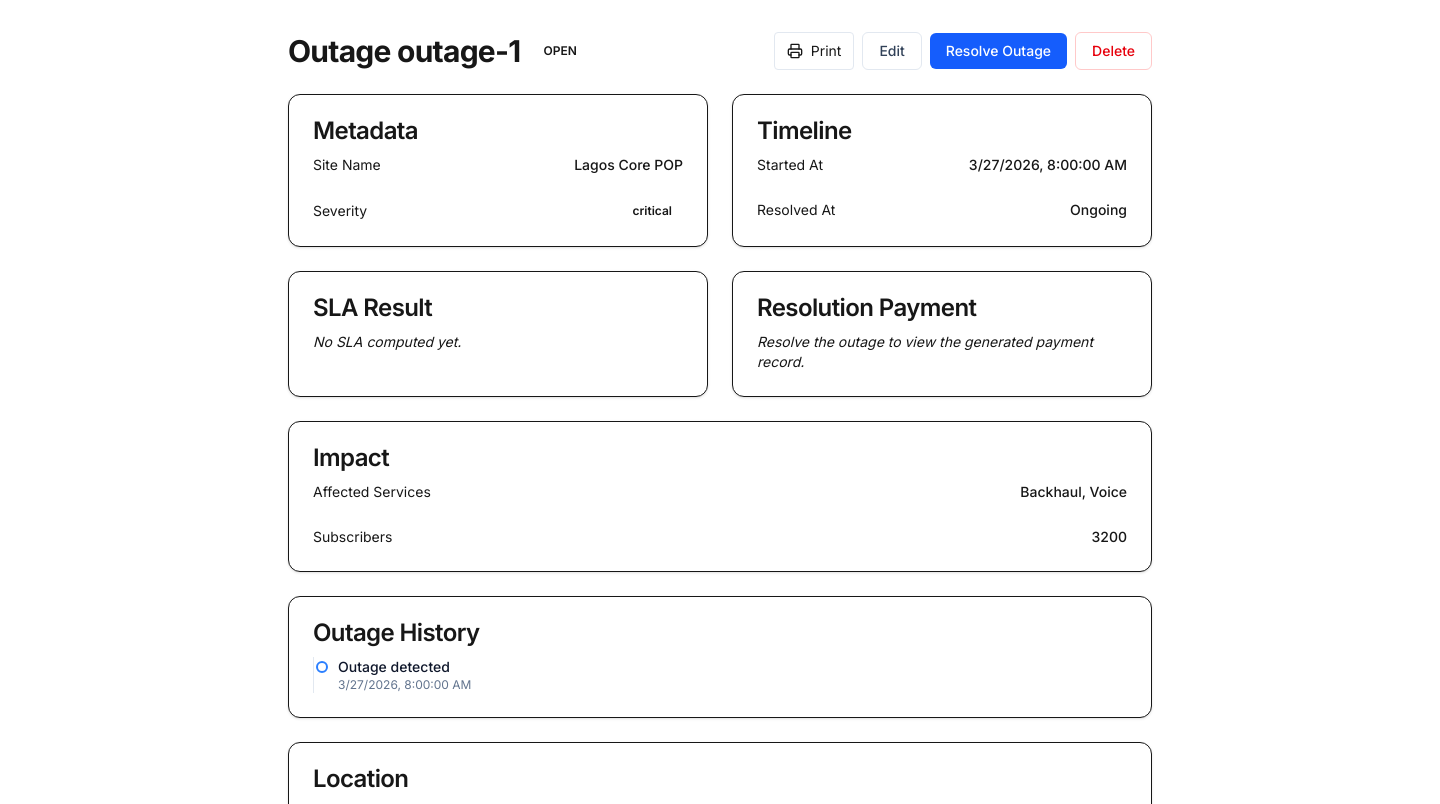
it: outages frontend flow › covers outage detail loading and resolution
Expected: the heading "Outage outage-1" is shown, [288,33,520,69]
Click the button "Resolve Outage": {"x": 998, "y": 51} [930,33,1067,69]
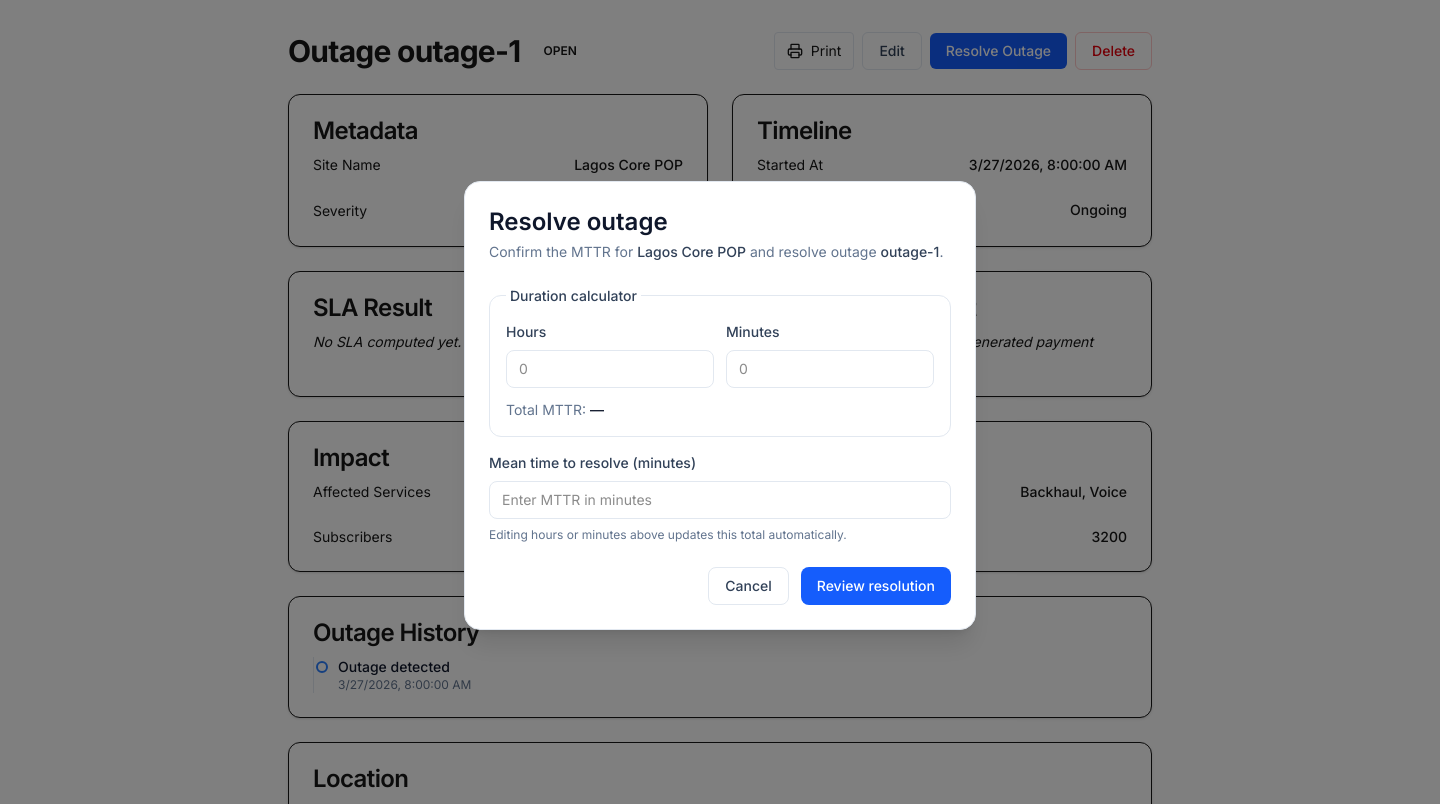
In the number field labelled "Mean time to resolve (minutes)": {"x": 720, "y": 500} [489,480,951,518], type "42"
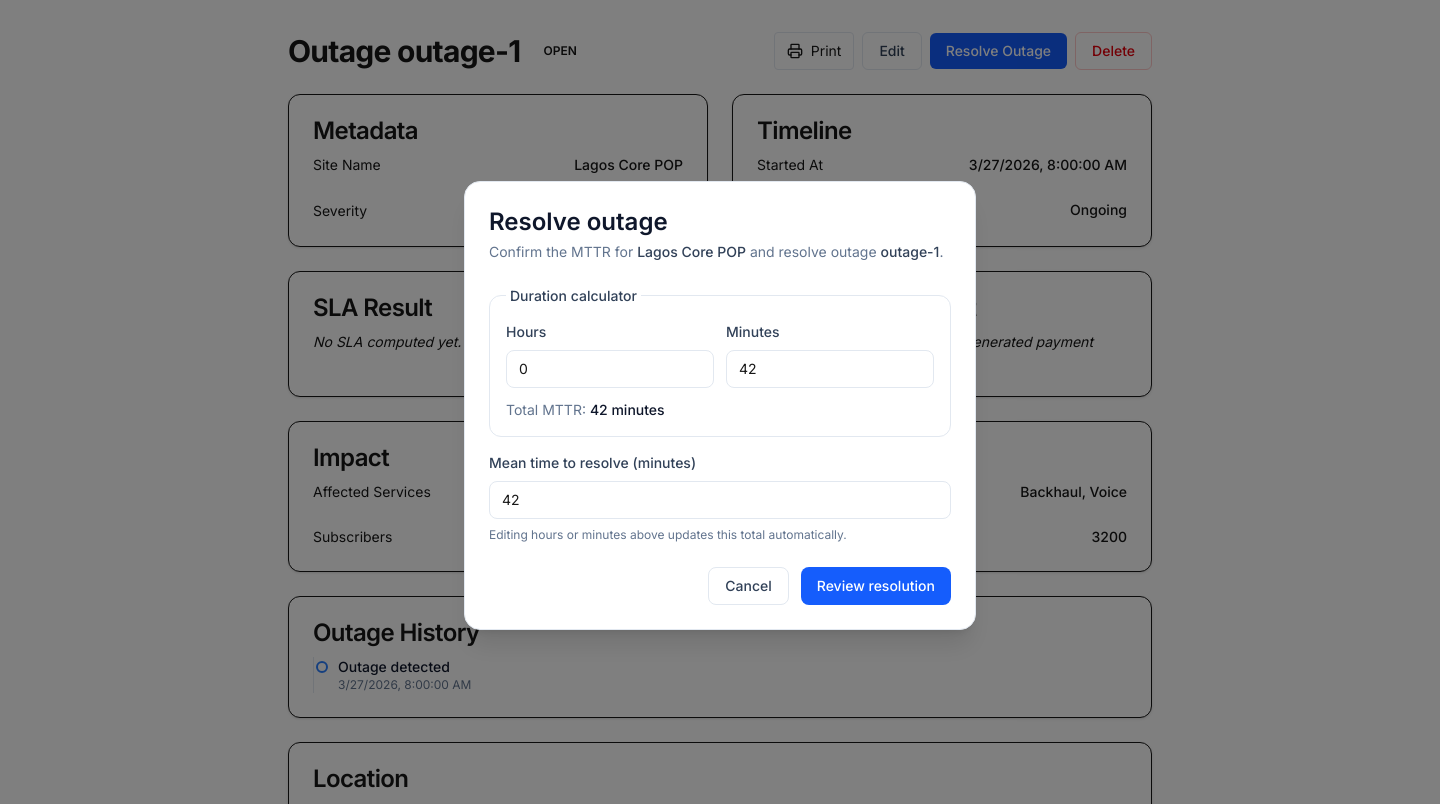
Click the button "Review resolution": {"x": 876, "y": 586} [801,566,951,604]
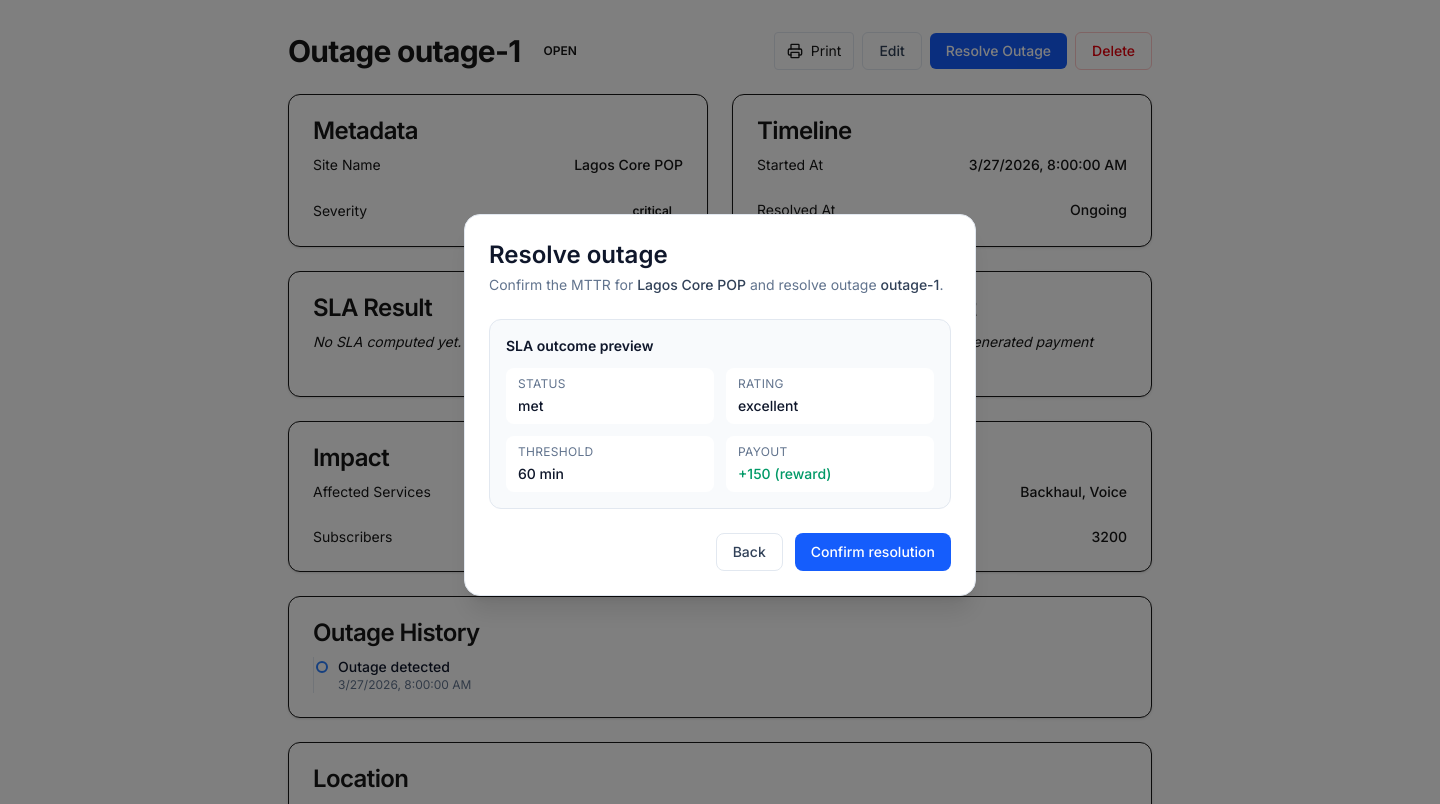
Click the button "Confirm resolution": {"x": 873, "y": 552} [795,533,951,571]
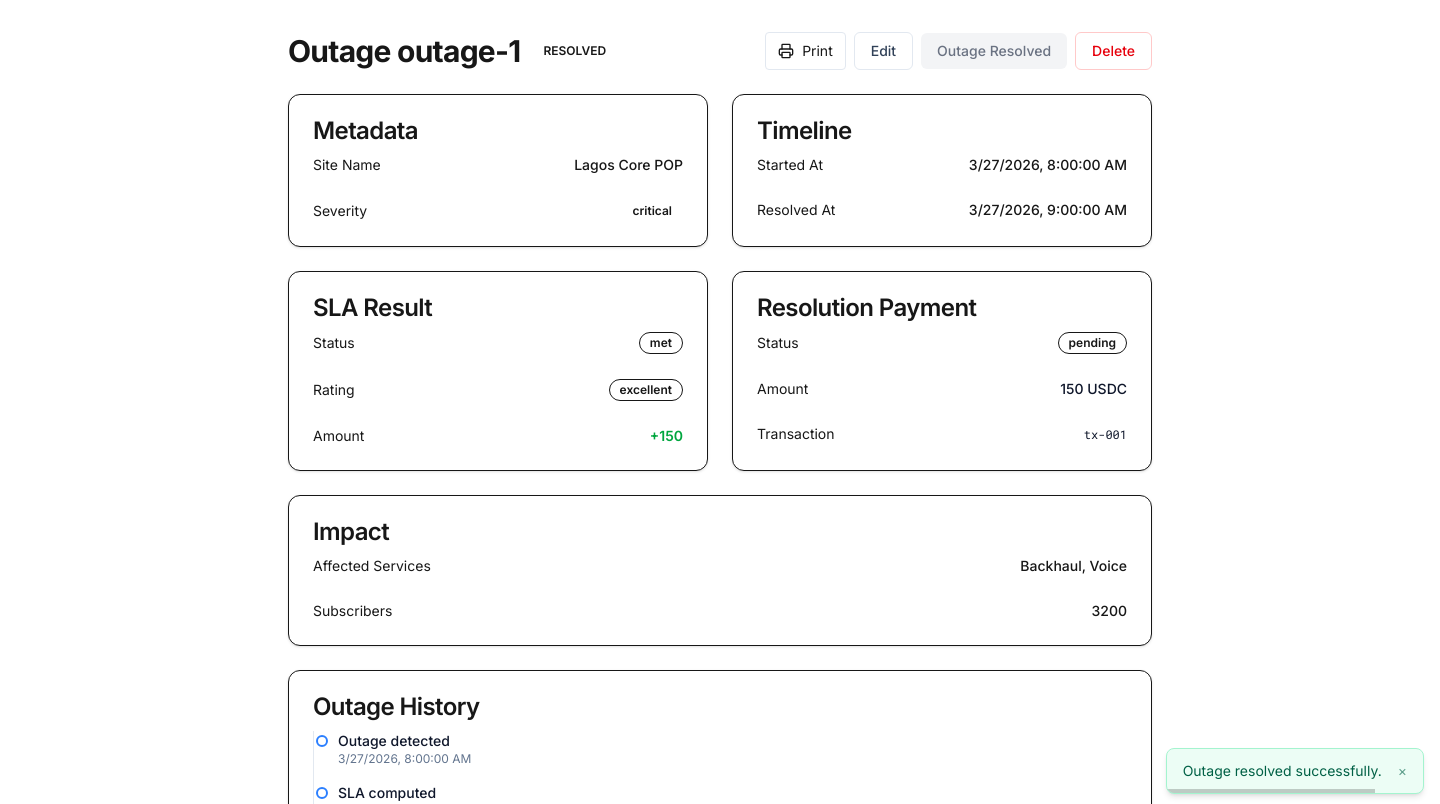
Expected: the text "pending" is shown, [1058,332,1127,354]
Expected: the text "150 USDC" is shown, [1060,379,1127,399]
